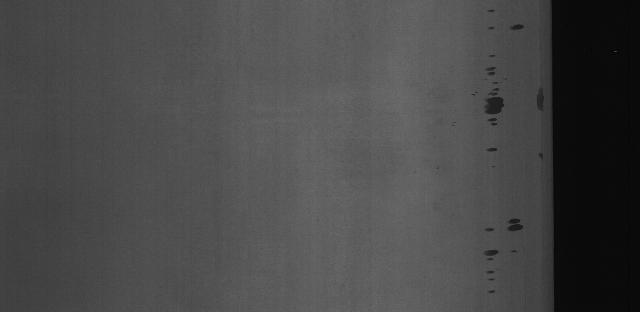oil_spot: (474, 207, 534, 278), (478, 55, 514, 157), (501, 12, 537, 34), (532, 87, 549, 118), (485, 2, 498, 34), (534, 145, 549, 161)
